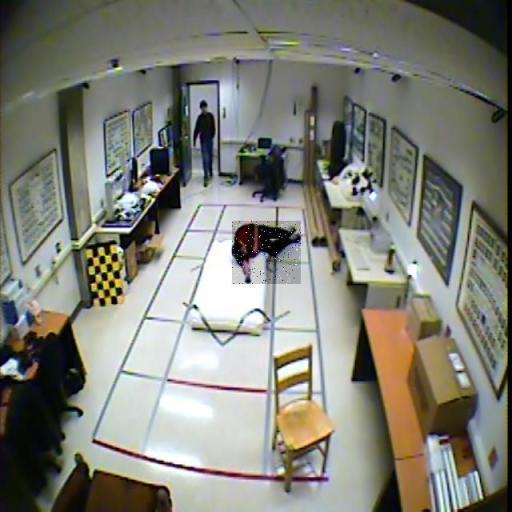Fall: (232, 221, 301, 284)
